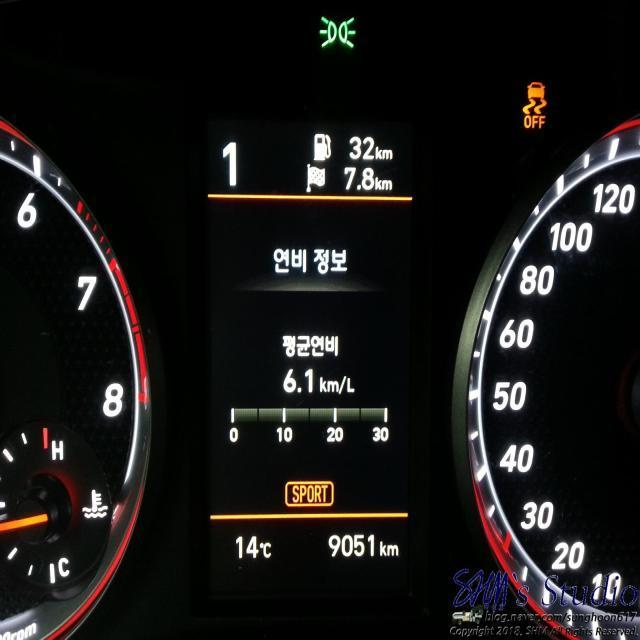SideLamp: (318, 13, 356, 50)
